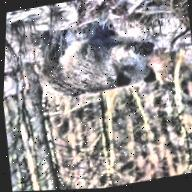boar: (29, 11, 161, 105)
